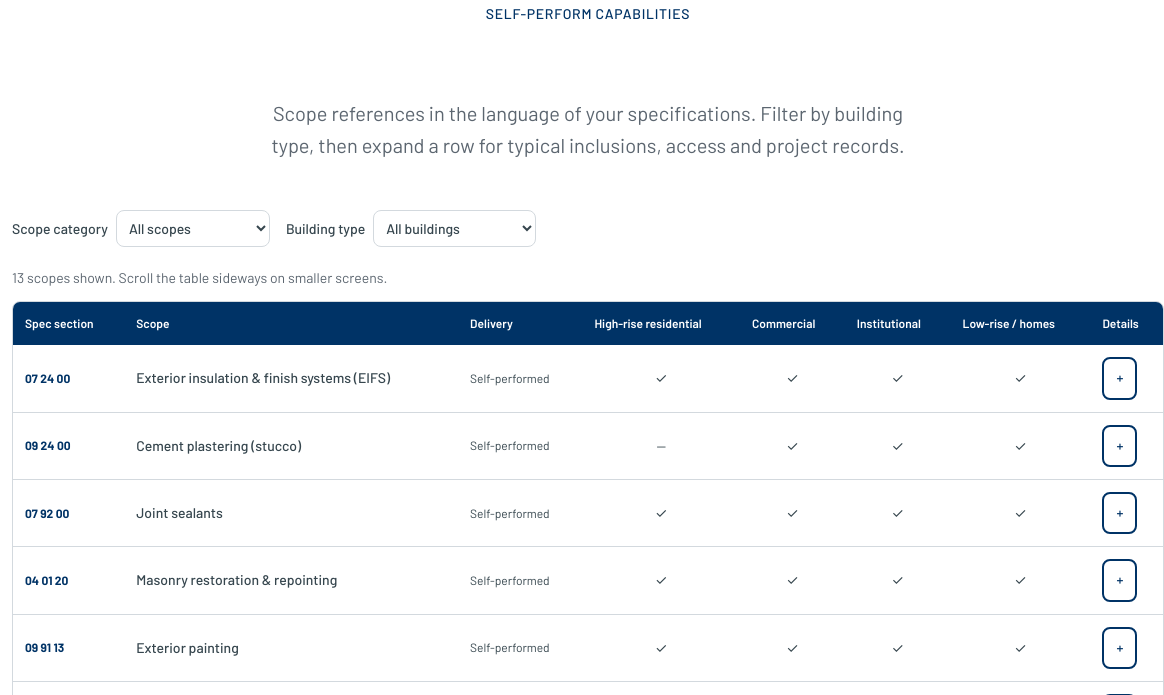
Test case: Capabilities interactions › filters the matrix, exposes expanded records and links to existing services
Select "Building envelope" in the dropdown labelled "Scope category" at [193, 228], box 116,210 -> 270,247
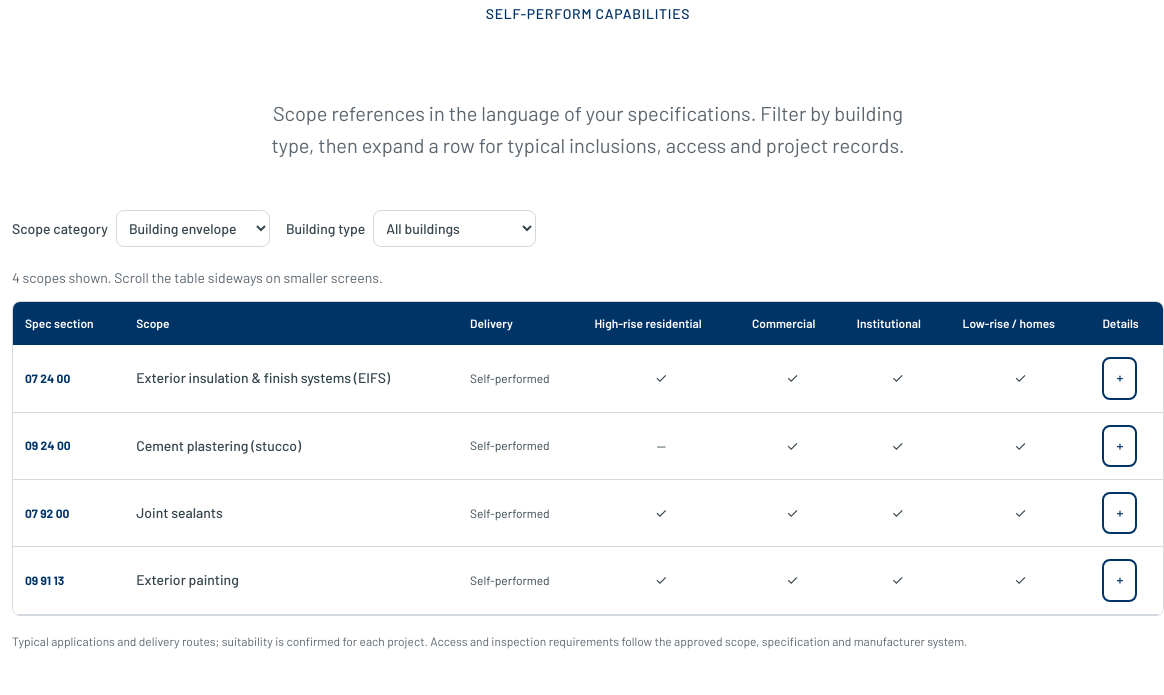
expect the message shows "4 scopes": met, box 12,269 -> 383,286
Click the button named "Expand Joint sealants" at [1120, 513], box 1102,492 -> 1137,534
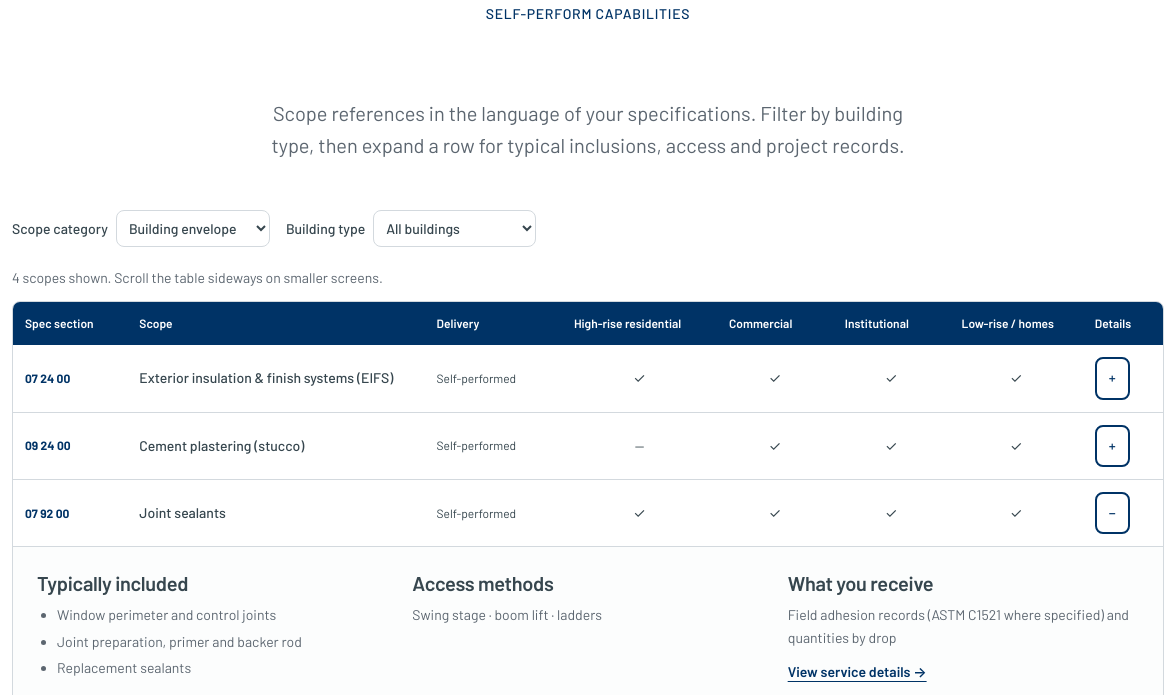
expect the button named "Collapse Joint sealants" is expanded: met, box 1095,492 -> 1130,534
expect the text "ASTM C1521" is shown: met, box 788,606 -> 1129,646
Select "High-rise residential" in the dropdown labelled "Building type" at [455, 228], box 373,210 -> 536,247
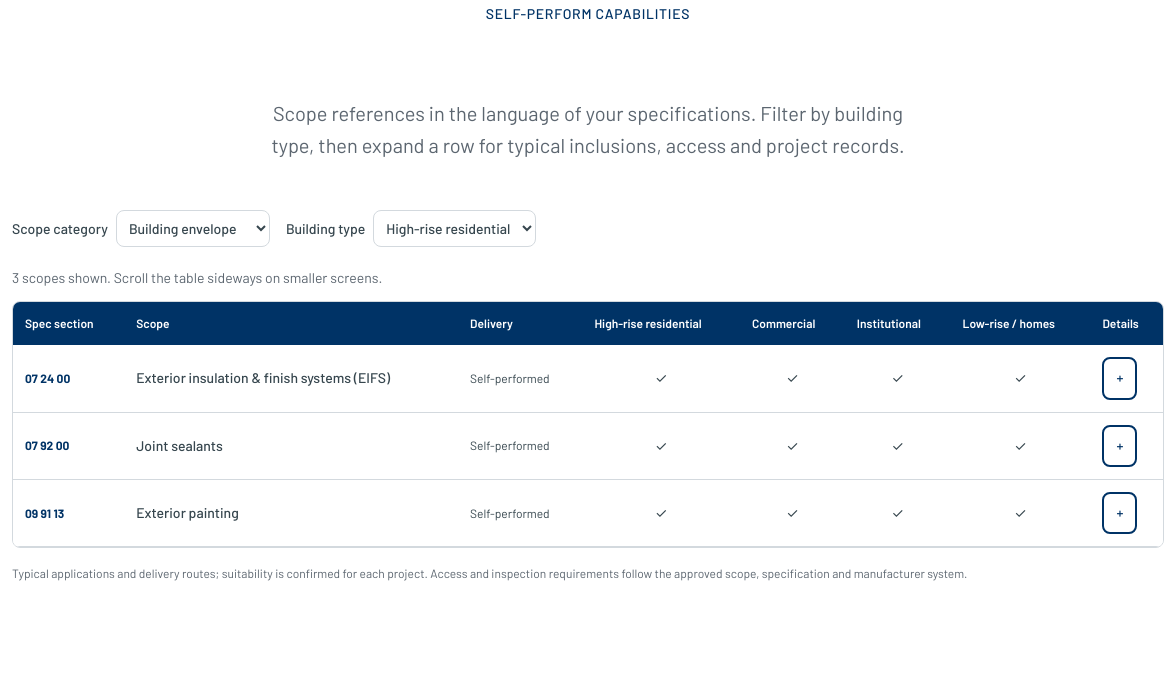
expect the message shows "3 scopes": met, box 12,269 -> 382,286
expect the link "View service details →" is gone: met
